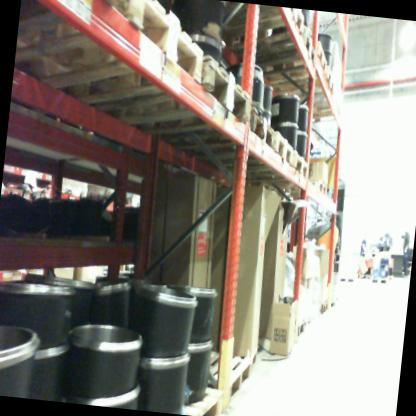forklift: (284, 158, 358, 291)
pallet: (18, 37, 264, 147), (18, 0, 216, 91), (148, 88, 279, 157), (165, 119, 296, 180), (235, 31, 333, 104), (217, 16, 323, 82), (198, 138, 311, 186), (248, 61, 345, 116), (207, 0, 312, 46), (196, 338, 260, 400), (156, 378, 235, 416), (22, 0, 133, 25), (277, 177, 334, 202), (286, 316, 310, 342), (310, 297, 330, 320), (335, 269, 357, 284), (369, 272, 390, 287), (356, 267, 374, 284)
